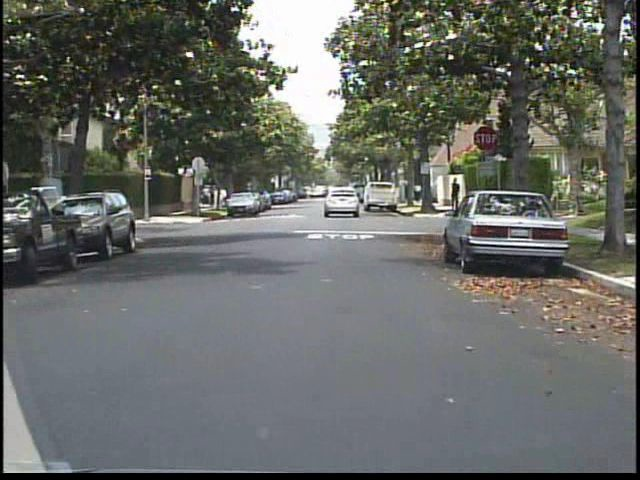person: (446, 176, 466, 212), (414, 178, 425, 205)
